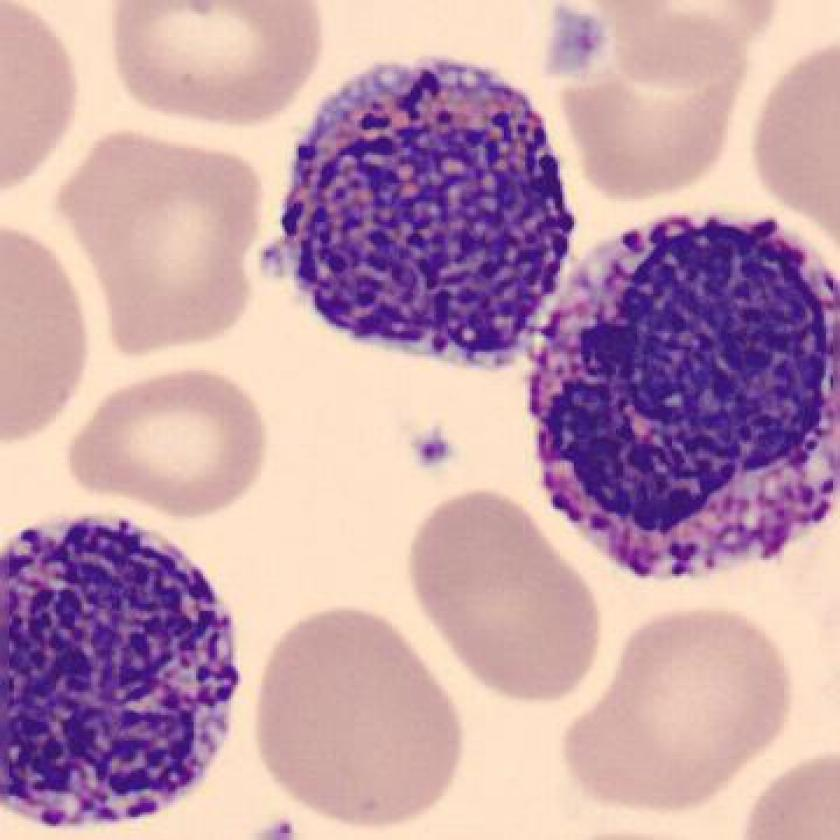basophil: (530, 181, 840, 595), (272, 54, 587, 381), (1, 505, 246, 840)
